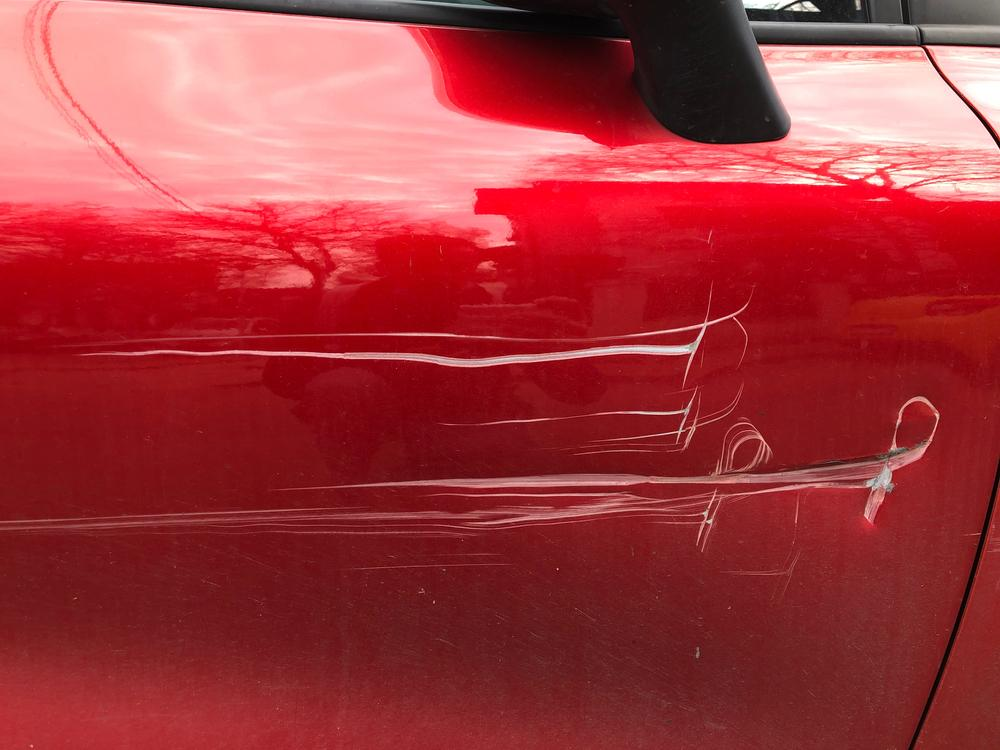scratch: (0, 300, 964, 584)
